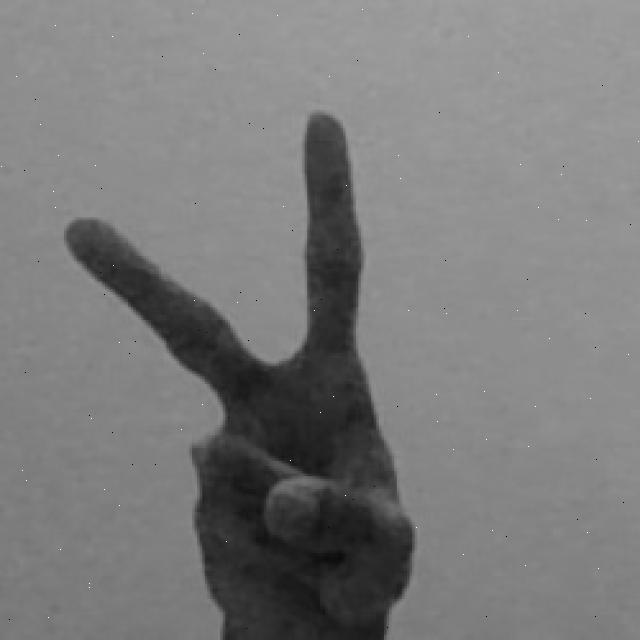V: (52, 106, 419, 640)
